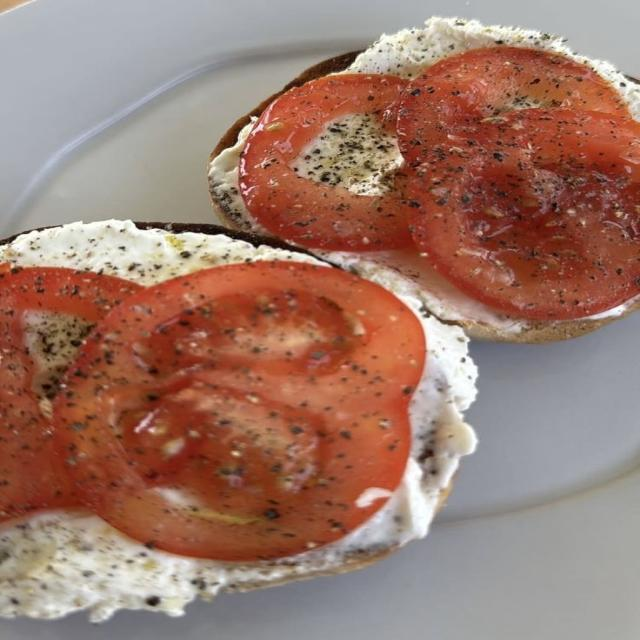sliced_bread: (0, 511, 402, 621), (208, 51, 361, 245), (351, 252, 639, 343), (429, 316, 475, 454), (130, 222, 286, 261), (134, 221, 291, 248), (0, 232, 28, 244)
sliced_tomato: (54, 263, 425, 560), (413, 109, 639, 319), (0, 265, 139, 518), (240, 75, 411, 250), (398, 47, 628, 168)
